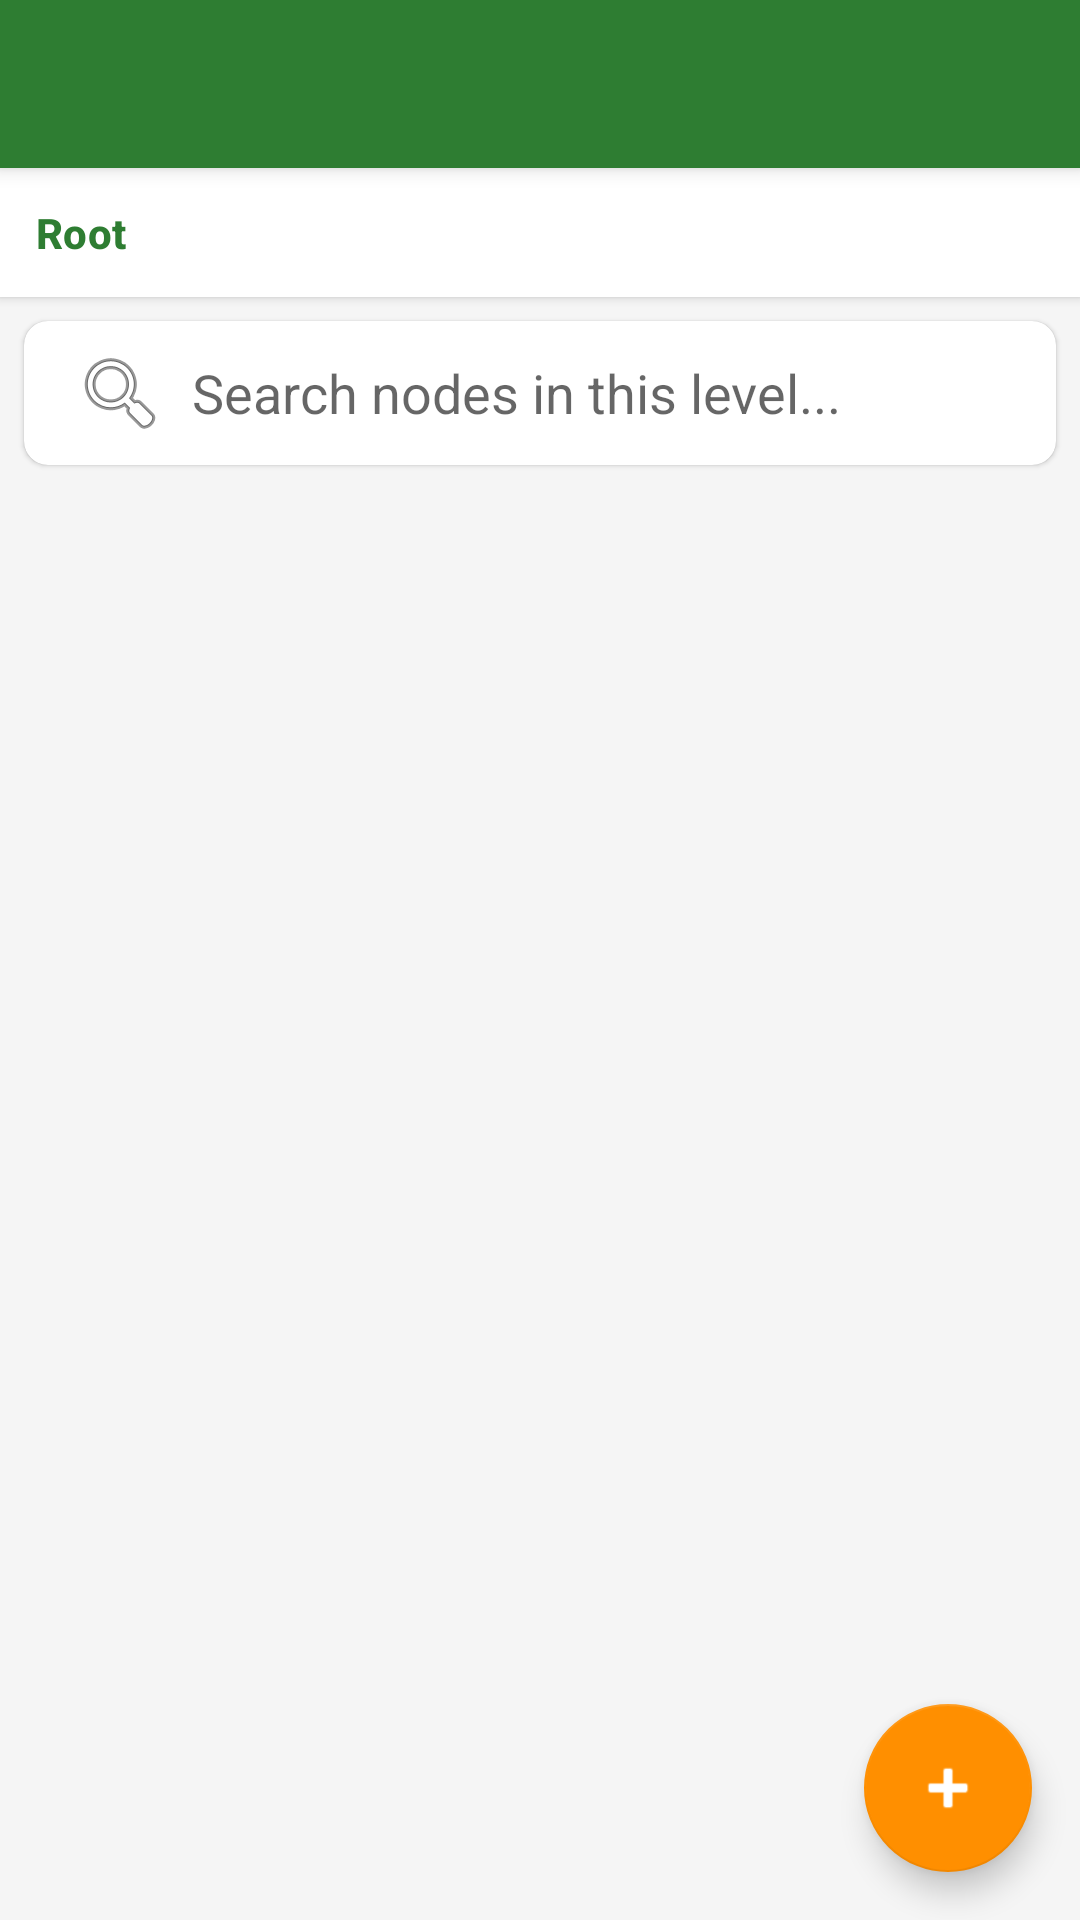

Screen size 1080×1920. Icon name, then its center in pixels as (x,y):
Add node: (948,1788)
